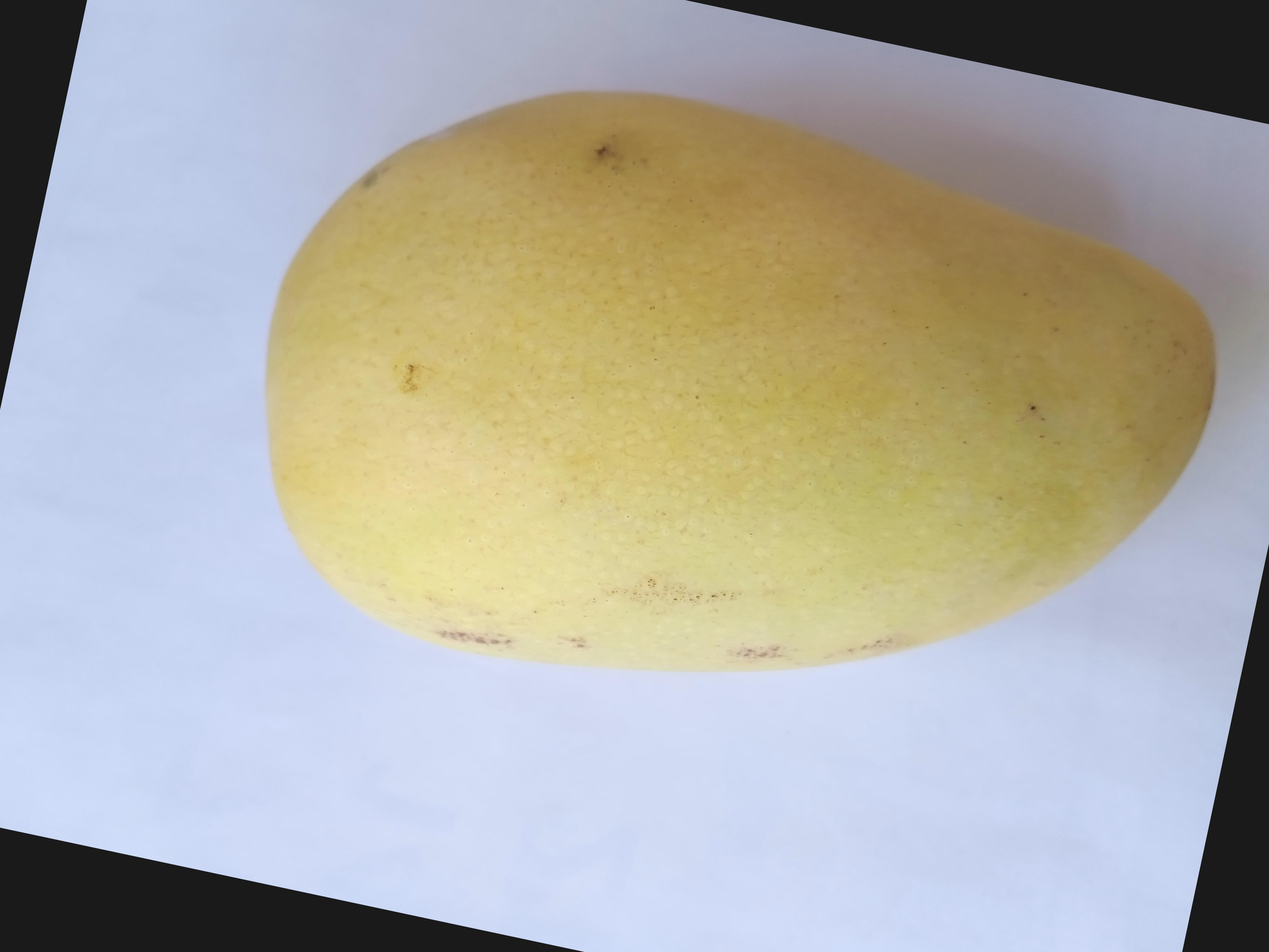Mango Ripe: (291, 0, 1269, 704)
